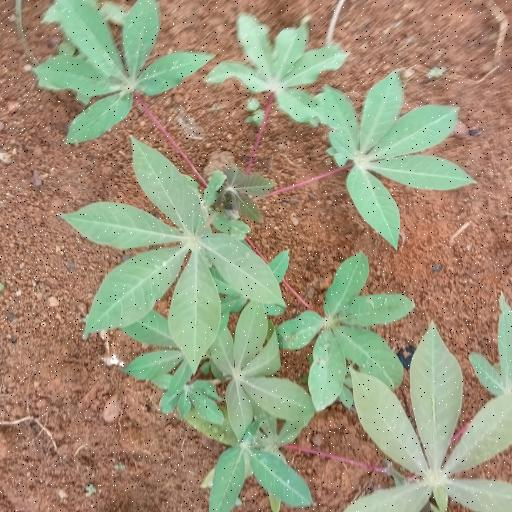Cassava_Mosaic: (92, 137, 264, 346), (364, 337, 512, 511), (323, 85, 459, 233)
